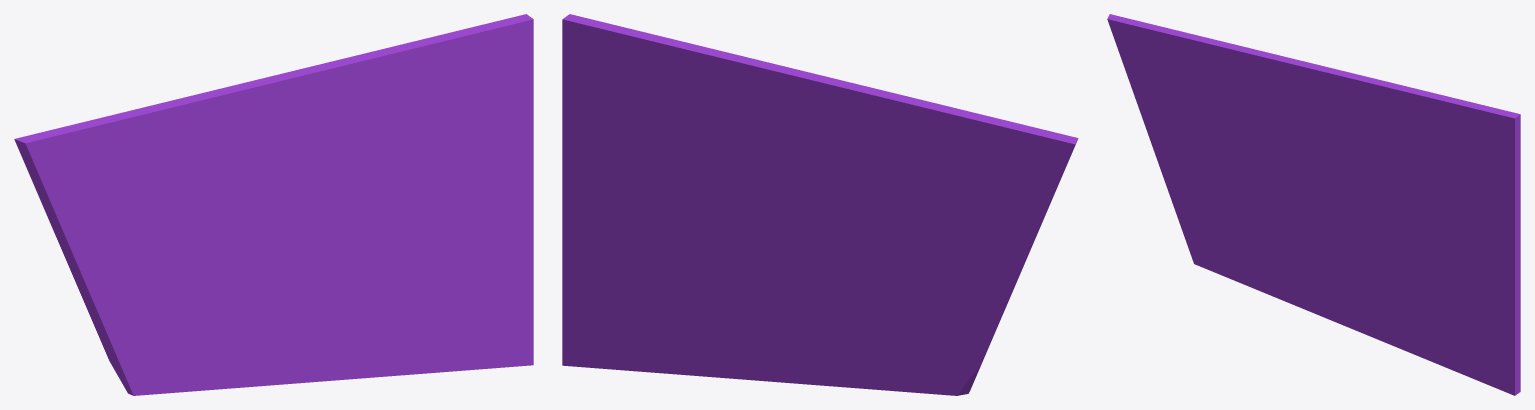
File: Glass_7_3_chunks.fbx
3 views of the same model, side by side, from view 1: azimuth 30°, elevation 25°; view 2: azimuth 150°, elevation 25°; view 3: azimuth 330°, elevation 25° (orthographic). The views are drawn at different scales.
Visible parts, largest first — view 1: Glass_7_3_6, Glass_7_3_12, Glass_7_3_1, Glass_7_3_0, Glass_7_3_8, Glass_7_3_9, Glass_7_3_7, Glass_7_3_11, Glass_7_3_3, Glass_7_3_4, Glass_7_3_5, Glass_7_3_2 (+1 smaller); view 2: Glass_7_3_0, Glass_7_3_9, Glass_7_3_12, Glass_7_3_6, Glass_7_3_1, Glass_7_3_5, Glass_7_3_7, Glass_7_3_8, Glass_7_3_4, Glass_7_3_11, Glass_7_3_10, Glass_7_3_3 (+1 smaller); view 3: Glass_7_3_6, Glass_7_3_12, Glass_7_3_1, Glass_7_3_8, Glass_7_3_0, Glass_7_3_9, Glass_7_3_7, Glass_7_3_11, Glass_7_3_3, Glass_7_3_4, Glass_7_3_5, Glass_7_3_2 (+1 smaller).
Boxes of the visible parts, left/top/right/bottom form: Glass_7_3_6: left=327, top=256, right=533, bottom=380; Glass_7_3_12: left=354, top=14, right=533, bottom=156; Glass_7_3_1: left=14, top=100, right=220, bottom=224; Glass_7_3_0: left=79, top=273, right=266, bottom=395; Glass_7_3_8: left=324, top=112, right=533, bottom=279; Glass_7_3_9: left=175, top=55, right=358, bottom=180; Glass_7_3_7: left=265, top=227, right=373, bottom=385; Glass_7_3_11: left=240, top=145, right=367, bottom=252; Glass_7_3_3: left=169, top=143, right=276, bottom=282; Glass_7_3_4: left=37, top=192, right=151, bottom=313; Glass_7_3_5: left=412, top=183, right=533, bottom=266; Glass_7_3_2: left=133, top=216, right=226, bottom=304; Glass_7_3_0: left=820, top=255, right=1009, bottom=395; Glass_7_3_9: left=729, top=57, right=914, bottom=196; Glass_7_3_12: left=562, top=14, right=747, bottom=144; Glass_7_3_6: left=562, top=277, right=763, bottom=380; Glass_7_3_1: left=890, top=96, right=1078, bottom=217; Glass_7_3_5: left=562, top=157, right=724, bottom=289; Glass_7_3_7: left=722, top=229, right=821, bottom=385; Glass_7_3_8: left=562, top=120, right=760, bottom=267; Glass_7_3_4: left=930, top=197, right=1052, bottom=306; Glass_7_3_11: left=743, top=159, right=867, bottom=262; Glass_7_3_10: left=563, top=120, right=743, bottom=219; Glass_7_3_3: left=838, top=153, right=935, bottom=271; Glass_7_3_6: left=1349, top=264, right=1520, bottom=395; Glass_7_3_12: left=1370, top=81, right=1520, bottom=195; Glass_7_3_1: left=1107, top=14, right=1263, bottom=133; Glass_7_3_8: left=1347, top=192, right=1520, bottom=268; Glass_7_3_0: left=1166, top=184, right=1300, bottom=307; Glass_7_3_9: left=1239, top=45, right=1386, bottom=148; Glass_7_3_7: left=1299, top=203, right=1385, bottom=327; Glass_7_3_11: left=1279, top=133, right=1381, bottom=204; Glass_7_3_3: left=1222, top=95, right=1308, bottom=216; Glass_7_3_4: left=1129, top=81, right=1207, bottom=190; Glass_7_3_5: left=1417, top=226, right=1520, bottom=319; Glass_7_3_2: left=1194, top=133, right=1267, bottom=209.
Bounding box in the file's own units: 1101 × 710 × 27.2.
